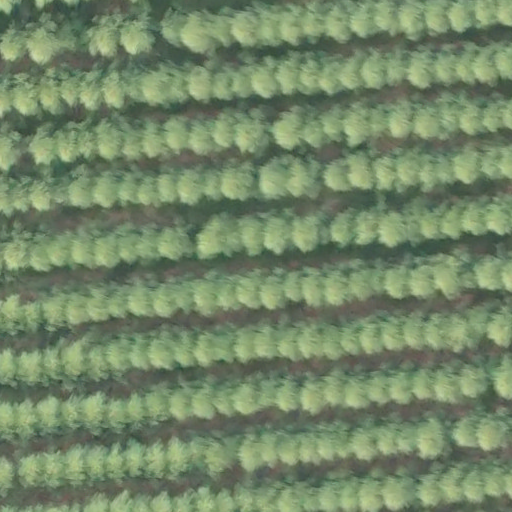eucalipto: (195, 210, 244, 261), (156, 220, 197, 264), (258, 205, 293, 256), (232, 211, 267, 260), (416, 412, 453, 458), (386, 93, 420, 143), (376, 471, 417, 512), (292, 211, 329, 256), (15, 345, 50, 392), (472, 40, 503, 93), (275, 103, 308, 152), (320, 150, 355, 196), (235, 110, 272, 152), (403, 47, 438, 91), (225, 8, 262, 49), (139, 438, 175, 480), (257, 158, 291, 201), (77, 66, 108, 113), (377, 205, 410, 249), (379, 259, 413, 301), (220, 159, 256, 198), (477, 407, 508, 452), (159, 112, 192, 154), (276, 370, 306, 416), (349, 263, 384, 302), (437, 255, 466, 302), (239, 427, 268, 473), (273, 324, 305, 365), (151, 275, 180, 320), (99, 443, 130, 485), (150, 330, 182, 370), (69, 227, 98, 271), (460, 358, 489, 402), (329, 204, 356, 251), (367, 365, 397, 407), (35, 396, 64, 439), (433, 47, 463, 88), (103, 337, 138, 372), (204, 435, 236, 473), (233, 375, 261, 418), (81, 391, 107, 437), (191, 381, 220, 422), (169, 380, 196, 424), (449, 411, 480, 449), (128, 278, 156, 319), (42, 291, 70, 332), (145, 386, 173, 427), (58, 339, 87, 378), (439, 199, 464, 244), (399, 1, 425, 44), (325, 2, 354, 40), (156, 164, 181, 208), (114, 224, 139, 268), (419, 1, 451, 35), (320, 51, 344, 96), (13, 401, 39, 442), (453, 147, 481, 185), (298, 52, 322, 96), (124, 390, 151, 429), (94, 170, 120, 210), (231, 326, 258, 364), (337, 317, 363, 356), (298, 427, 324, 466), (383, 50, 408, 90), (400, 313, 426, 351), (460, 99, 486, 137), (48, 227, 72, 268), (86, 283, 109, 325), (117, 171, 143, 208), (360, 318, 386, 355), (65, 290, 91, 327), (231, 59, 256, 97), (382, 313, 406, 352), (447, 1, 475, 34), (373, 421, 400, 454), (321, 323, 344, 361), (282, 268, 306, 304)
